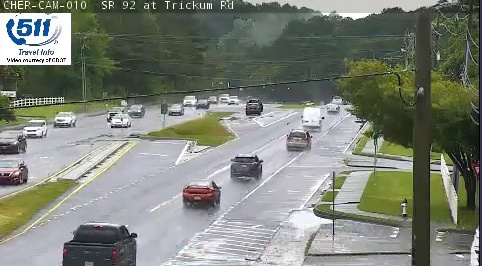car: (62, 224, 136, 266), (182, 180, 219, 204), (230, 153, 261, 177), (286, 131, 311, 150)
van: (301, 107, 321, 129)
